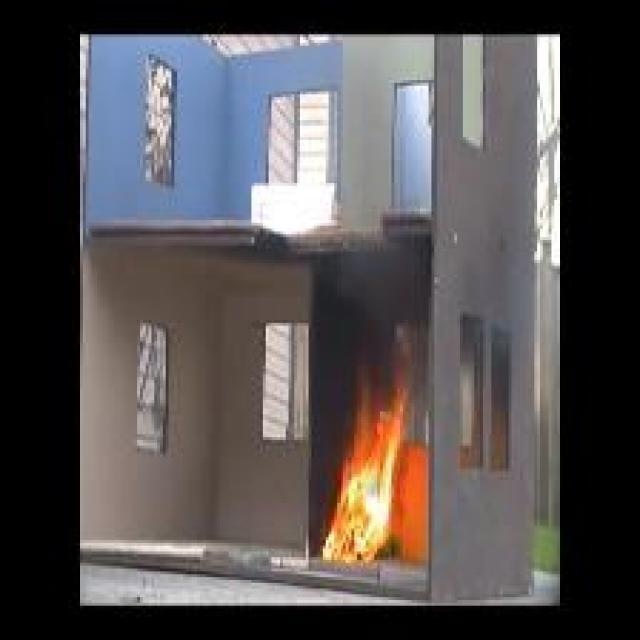Fire: (322, 369, 404, 562)
